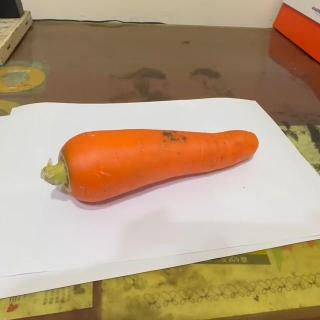carrot: (39, 126, 259, 204)
